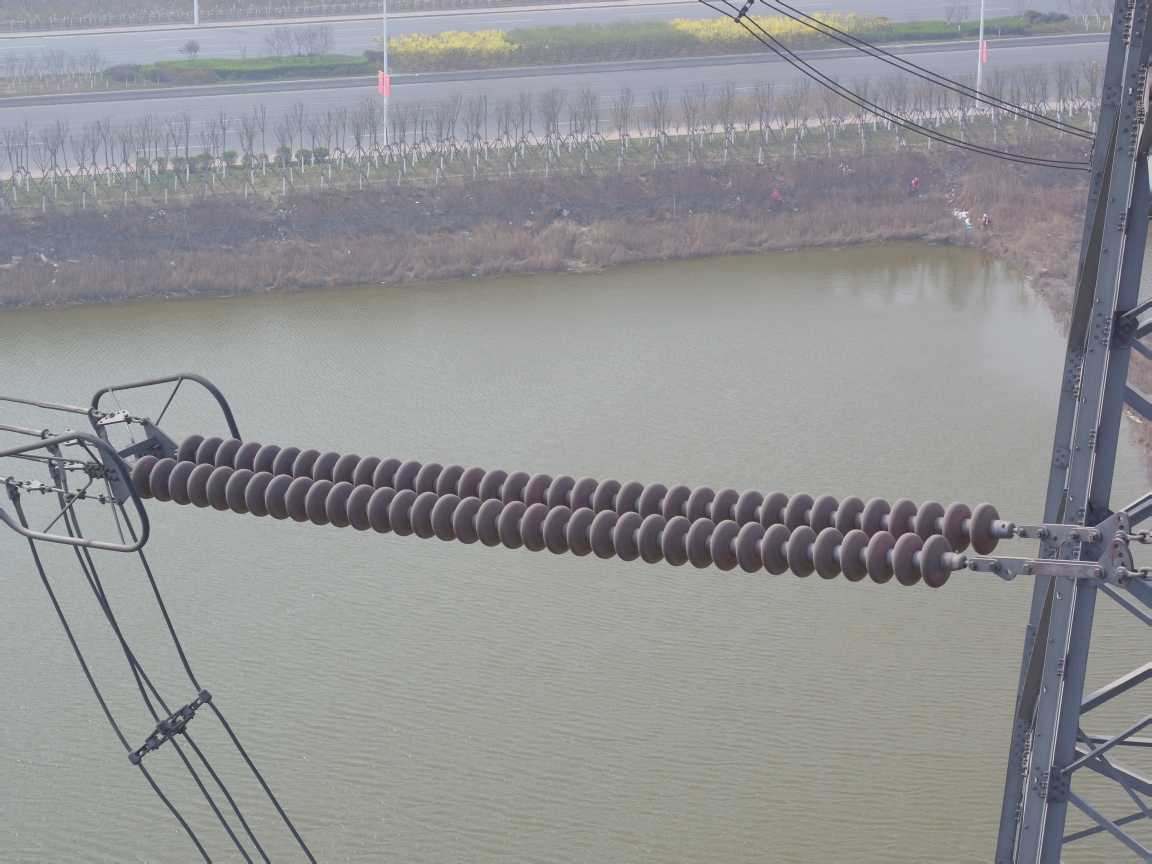insulator: (117, 424, 1058, 591)
